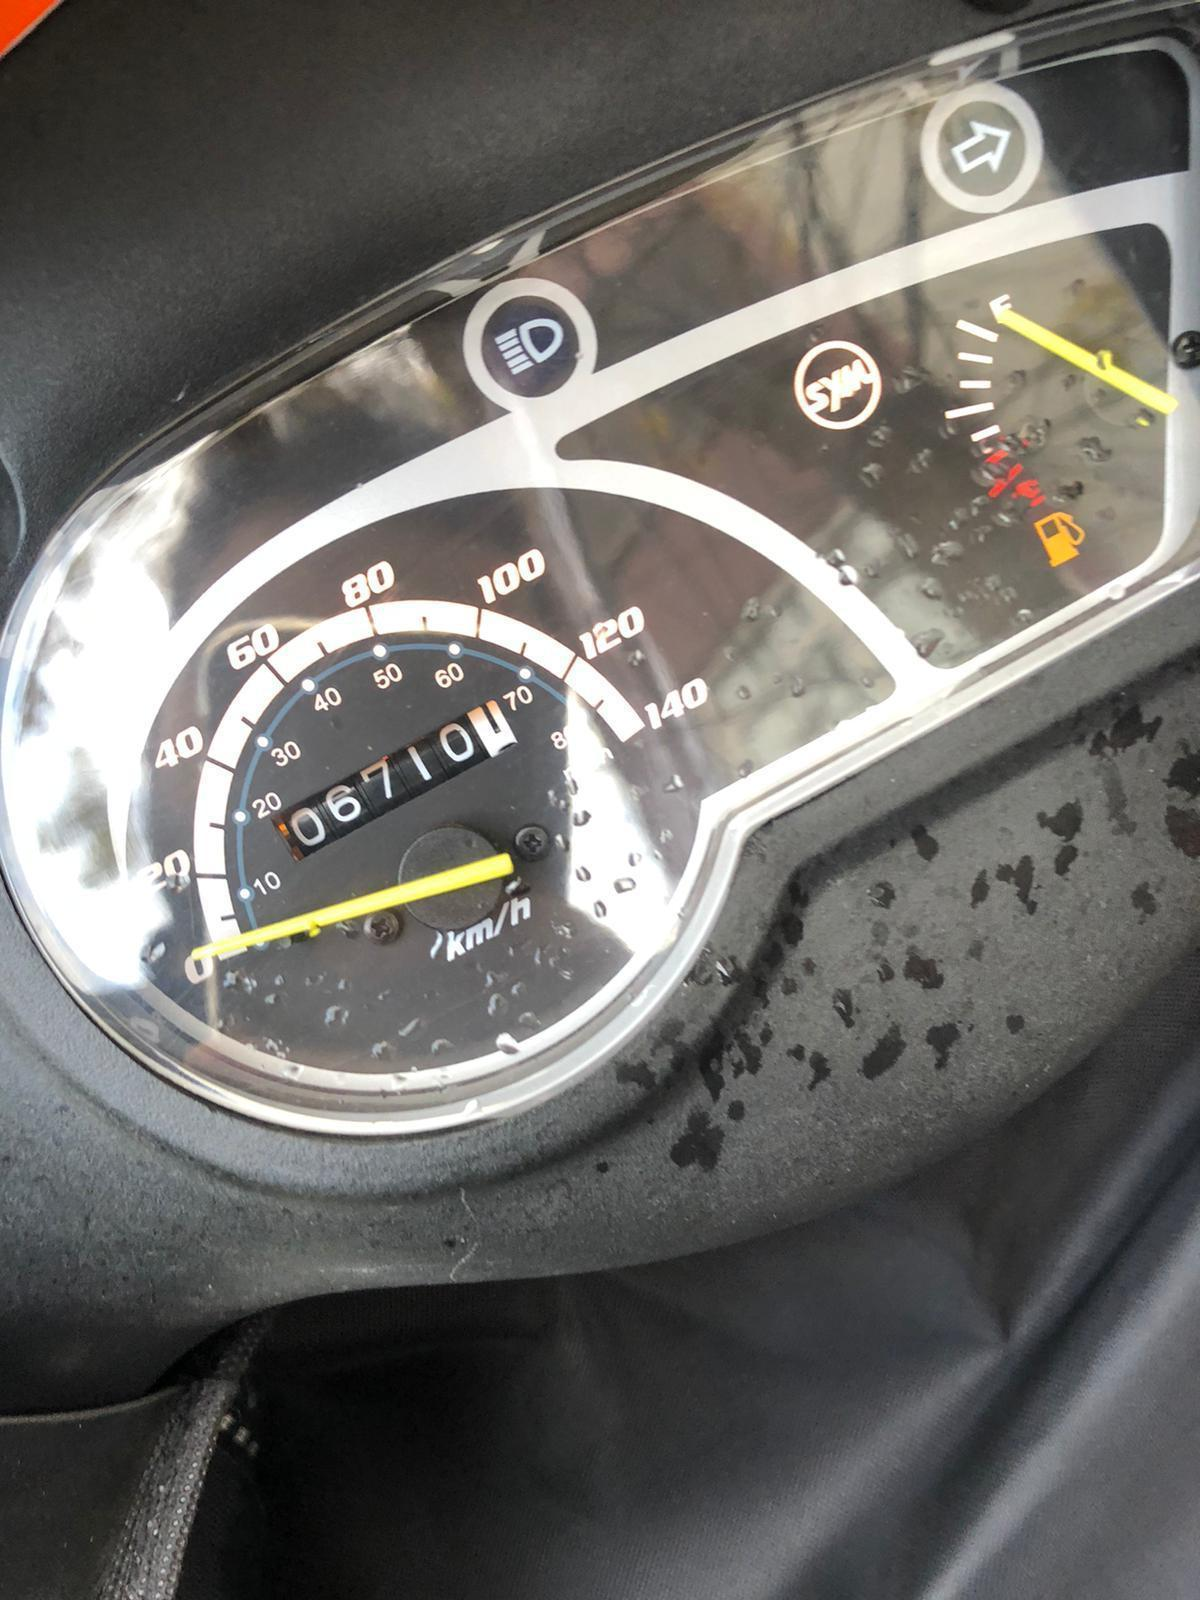0: (435, 721, 474, 766), (287, 808, 328, 848), (284, 740, 303, 760), (265, 792, 282, 813)
1: (406, 741, 431, 786), (478, 697, 500, 740)
3: (270, 747, 287, 767)
4: (313, 690, 328, 716)
6: (321, 784, 364, 825)
7: (359, 760, 400, 801), (503, 690, 517, 711)
odometer: (263, 695, 522, 864)
